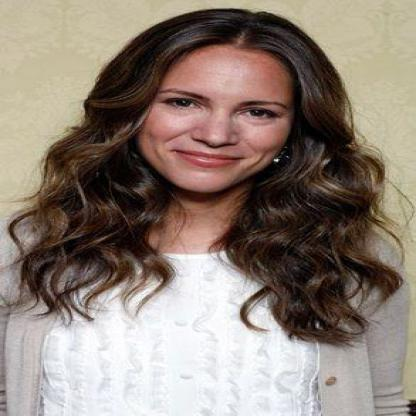long-hair: (1, 192, 412, 256)
